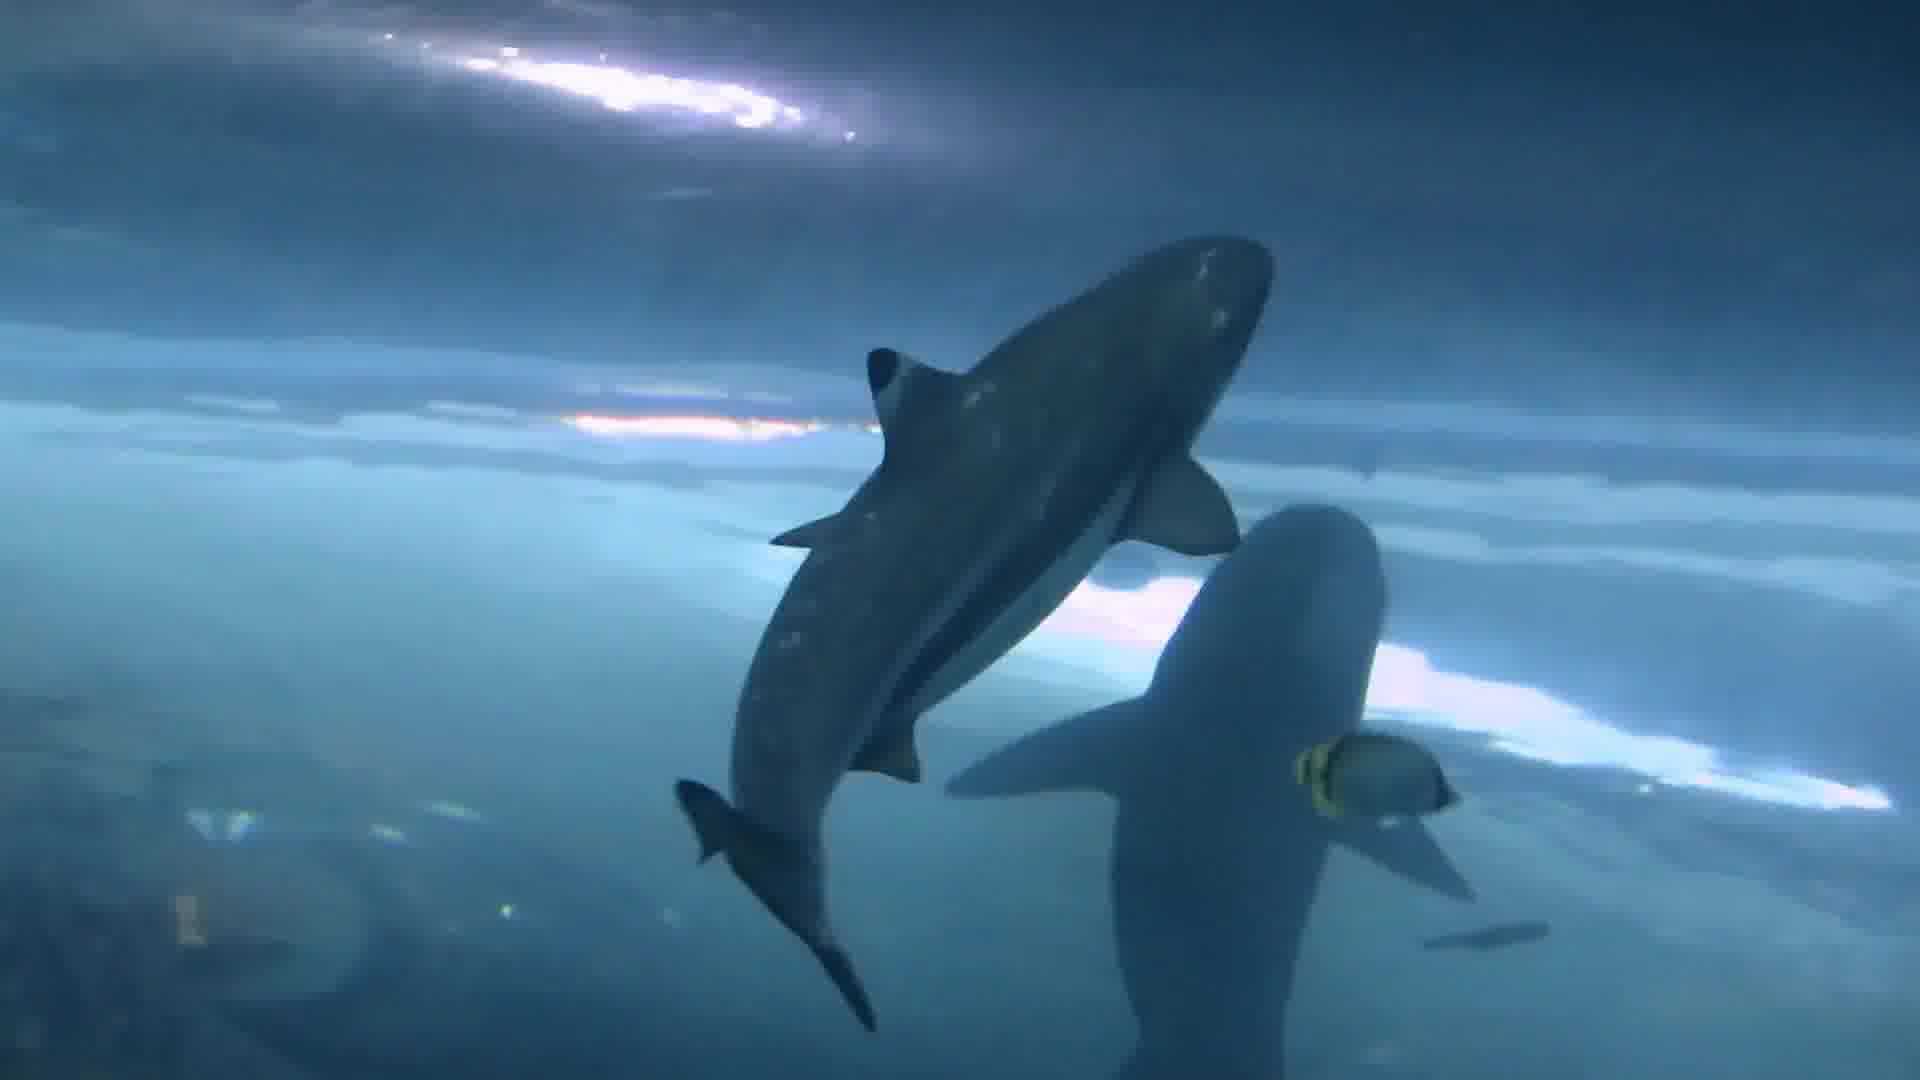Carcharhinus melanopterus: (473, 204, 1370, 996)
